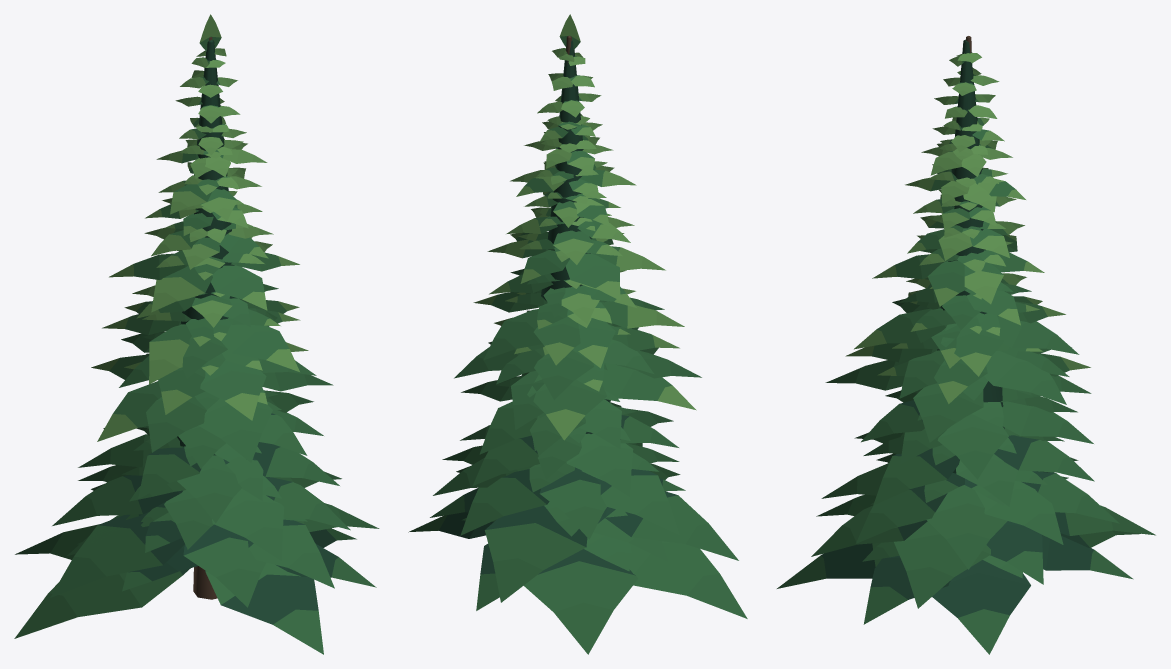
The model's file is SpruceB.glb.
The picture shows the model from 3 angles, left to right: view 1: azimuth 30°, elevation 25°; view 2: azimuth 150°, elevation 25°; view 3: azimuth 270°, elevation 25°; orthographic projection. The views are drawn at different scales.
Parts seen in each view (by area): view 1: SpruceB.needleMid, SpruceB.needleLight, SpruceB.needleDark, SpruceB.bark; view 2: SpruceB.needleMid, SpruceB.needleLight, SpruceB.needleDark; view 3: SpruceB.needleMid, SpruceB.needleDark, SpruceB.needleLight.
Part boxes in pixels (x1=…): SpruceB.needleMid: x1=14, y1=36, x2=379, y2=654; SpruceB.needleLight: x1=91, y1=14, x2=308, y2=441; SpruceB.needleDark: x1=98, y1=40, x2=338, y2=624; SpruceB.bark: x1=193, y1=37, x2=217, y2=599; SpruceB.needleMid: x1=408, y1=36, x2=747, y2=654; SpruceB.needleLight: x1=473, y1=14, x2=696, y2=440; SpruceB.needleDark: x1=438, y1=40, x2=677, y2=575; SpruceB.needleMid: x1=777, y1=61, x2=1155, y2=654; SpruceB.needleDark: x1=821, y1=39, x2=1094, y2=617; SpruceB.needleLight: x1=845, y1=52, x2=1090, y2=403.
Size of the model in its own units: 21.93 by 34.95 by 20.97.
